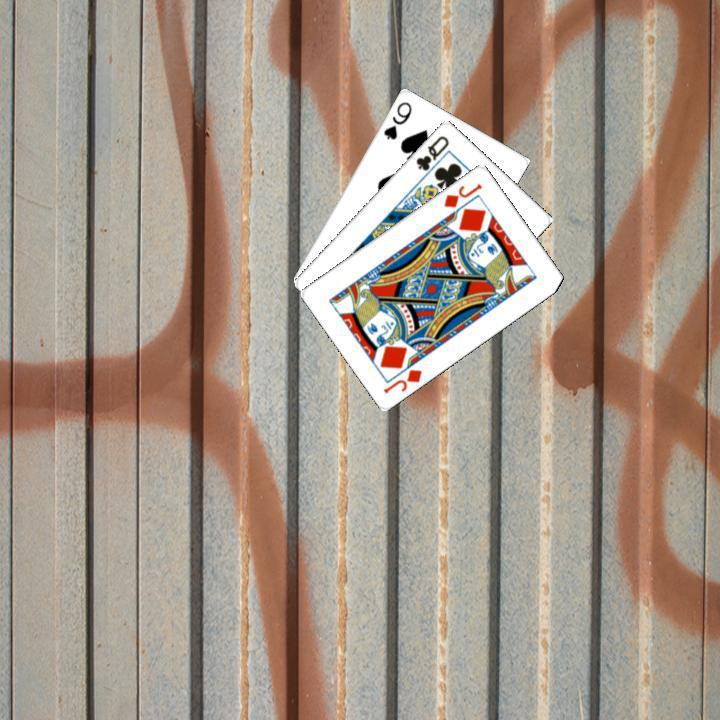9: (379, 97, 414, 141)
J: (379, 364, 424, 396), (439, 178, 484, 209)
Q: (411, 131, 451, 173)
